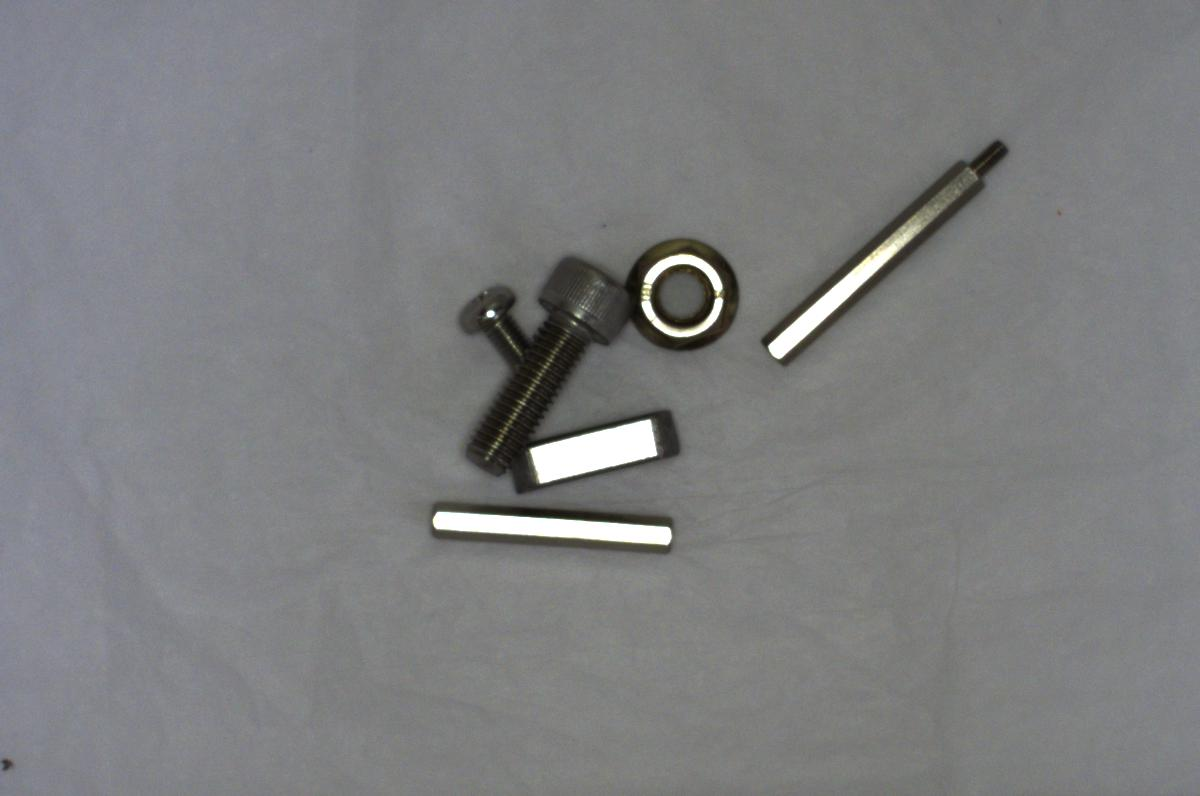Double hexagonal column: (411, 490, 680, 571)
Flange nut: (625, 222, 741, 354)
Hexagon screw: (458, 253, 621, 467)
Hexagonal steel column: (757, 124, 1014, 376)
Keybar: (491, 408, 691, 494)
Round head screw: (448, 281, 530, 364)
